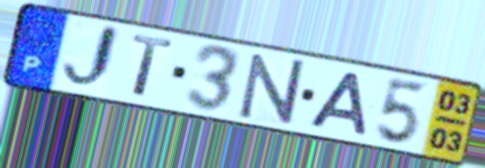3: (183, 42, 242, 115)
5: (372, 74, 432, 146)
A: (304, 69, 370, 138)
J: (59, 22, 123, 93)
N: (237, 51, 307, 127)
T: (130, 32, 176, 101)
